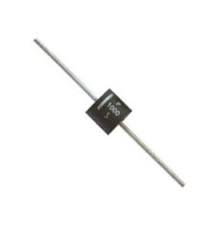diode: (59, 69, 160, 155)
